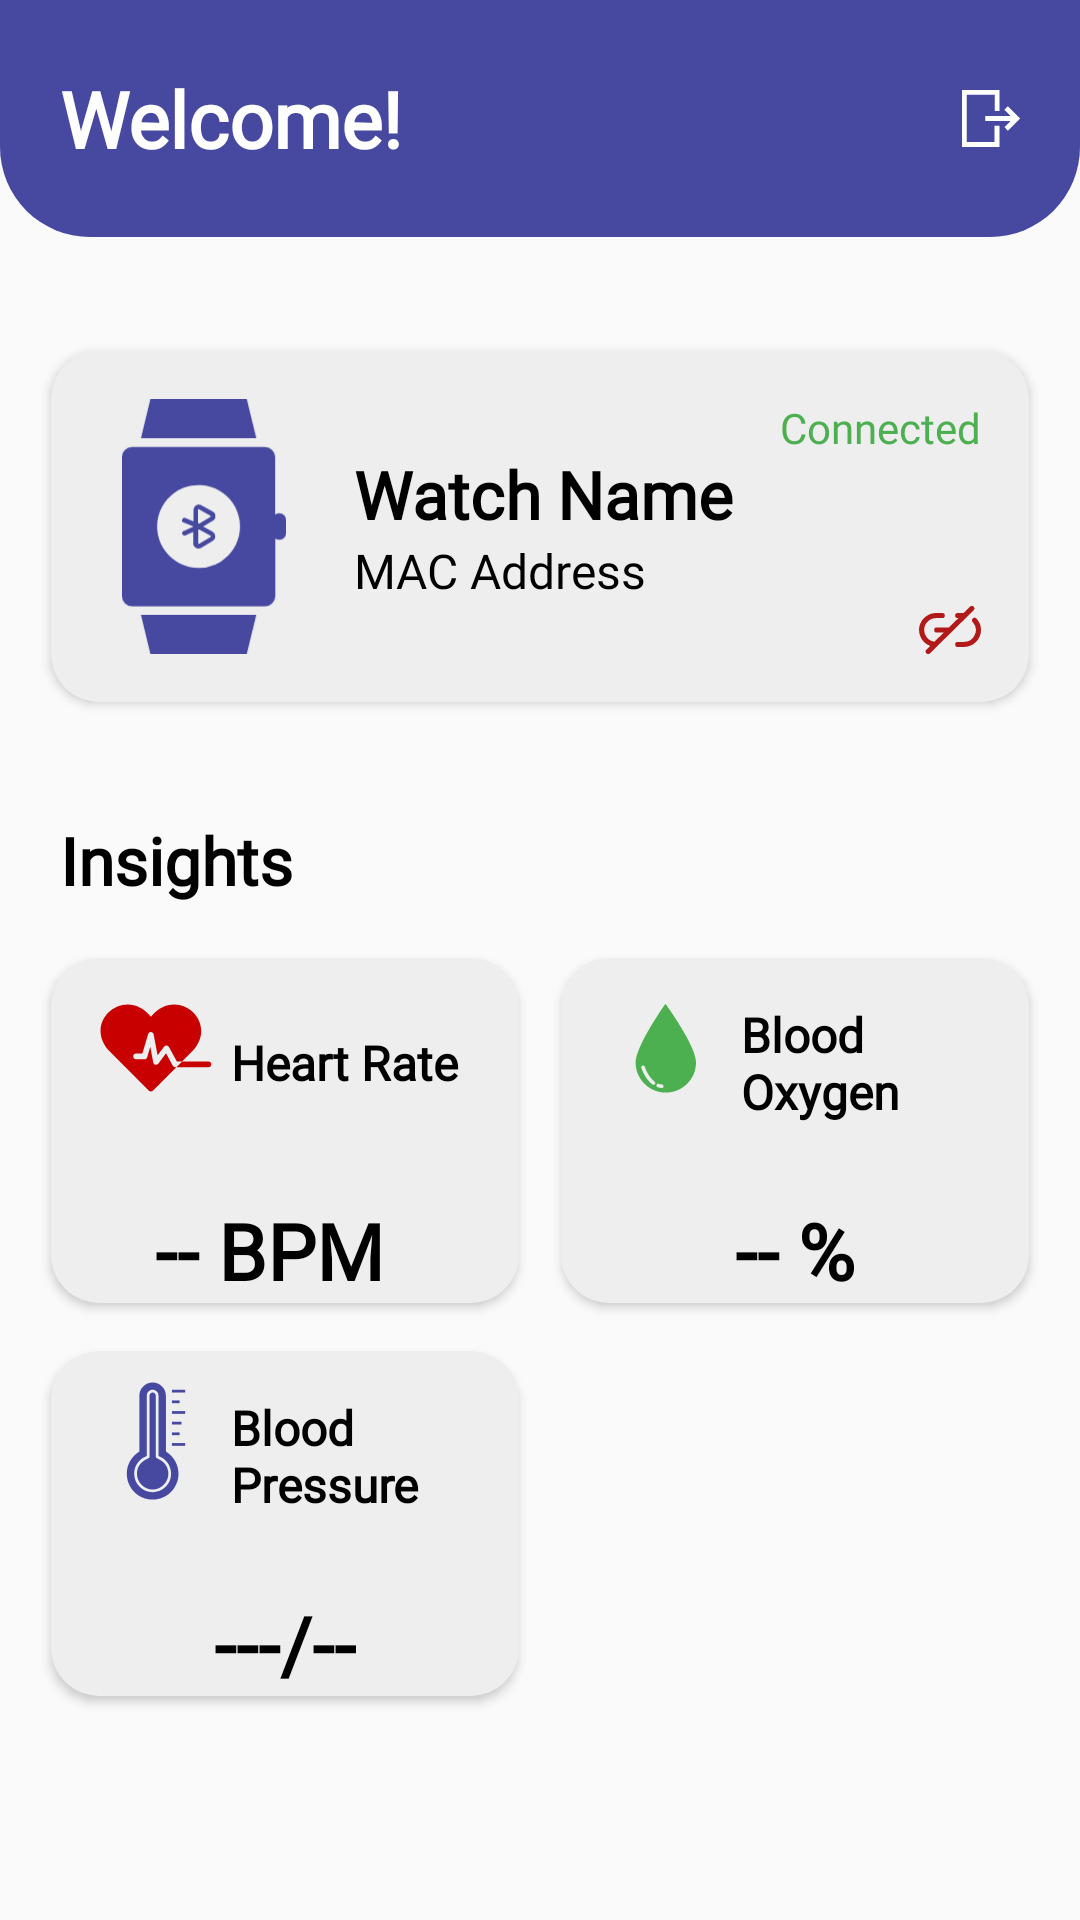

Where icons sit on this 1080w x 1920h app screen, as (x1, y1, x2, y2):
smart watch: (122, 399, 286, 654)
thermometer: (126, 1382, 186, 1500)
unlink: (919, 606, 981, 654)
